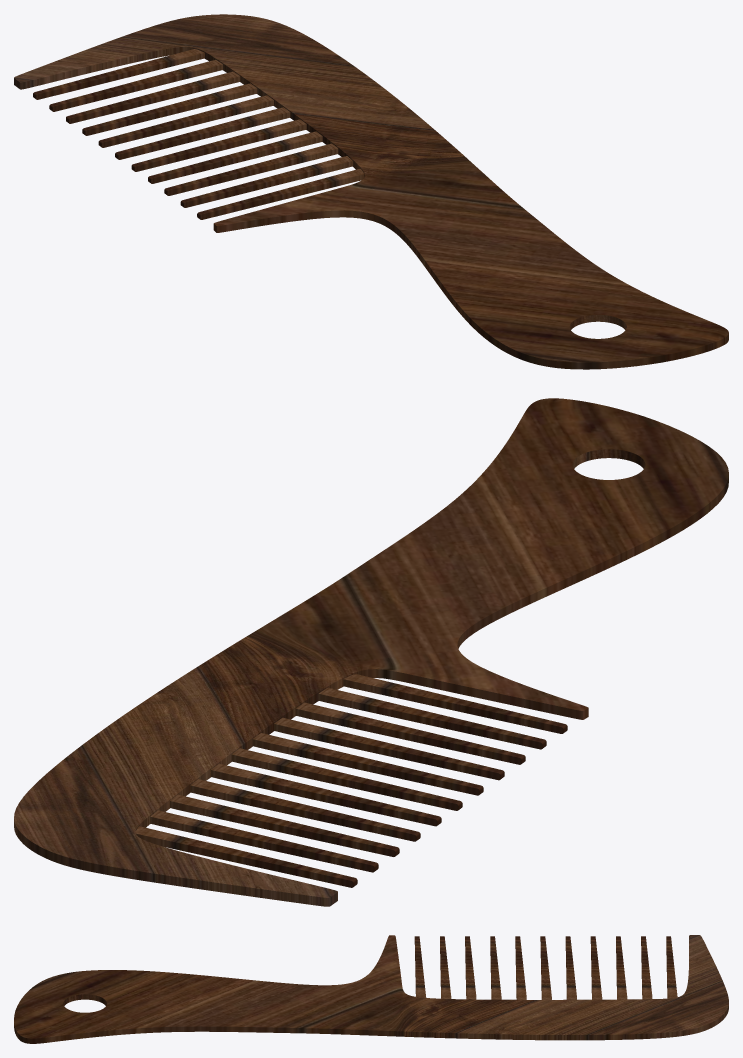
The model's file is comb.fbx.
3 views of the same model, one above another, from view 1: azimuth 30°, elevation 25°; view 2: azimuth 150°, elevation 25°; view 3: azimuth 270°, elevation 25° (orthographic). The views are drawn at different scales.
Parts seen in each view (by area): view 1: Comb, Comb 2; view 2: Comb, Comb 2; view 3: Comb, Comb 2.
Part boxes in pixels (x1,y1,x2,y2): Comb: (14,14,728,369); Comb 2: (33,49,364,219); Comb: (14,398,728,906); Comb 2: (135,674,567,887); Comb: (14,935,728,1043); Comb 2: (414,936,677,999).
Size of the model in its own units: 3.61 by 0.0866 by 10.54.
